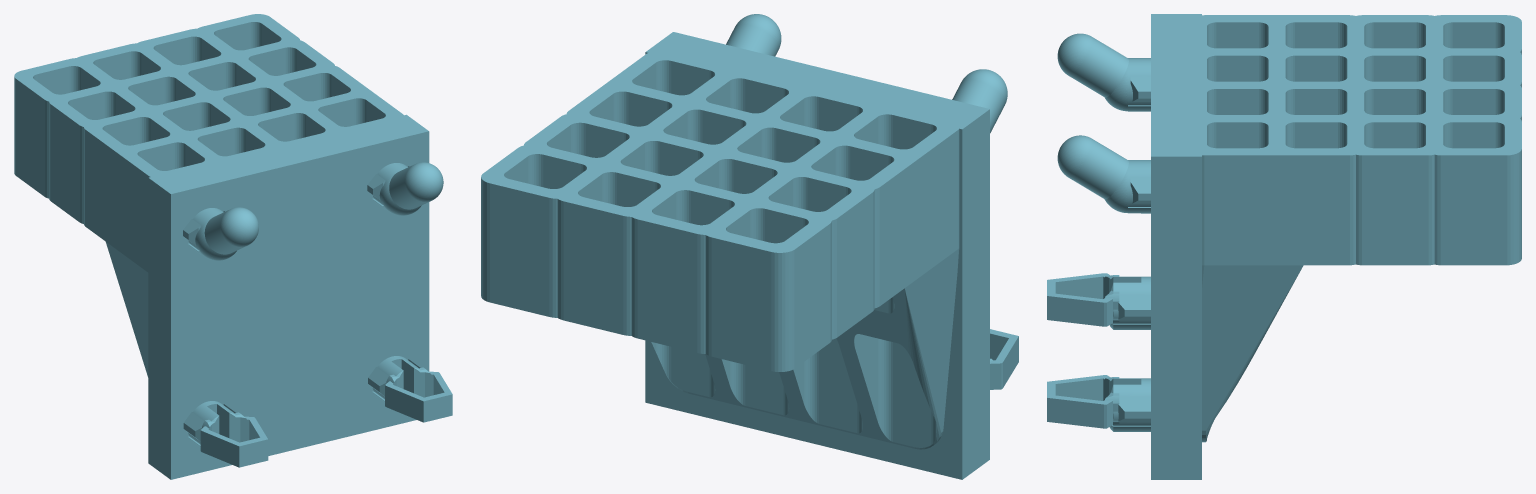
The model's file is part-p01__current-mounts-flat-top-v2__fit-pf02c9-hoop5__installed.glb.
3 renders of one model, left to right at view 1: azimuth 30°, elevation 25°; view 2: azimuth 150°, elevation 25°; view 3: azimuth 270°, elevation 25°, orthographic. The views are drawn at different scales.
Visible parts, largest first — view 1: installed.stl; view 2: installed.stl; view 3: installed.stl.
Part boxes in pixels (x1=…): installed.stl: x1=14, y1=14, x2=452, y2=479; installed.stl: x1=481, y1=14, x2=1018, y2=479; installed.stl: x1=1047, y1=14, x2=1521, y2=479.
Bounding box in the file's own units: 0.0356 × 0.0376 × 0.05.
